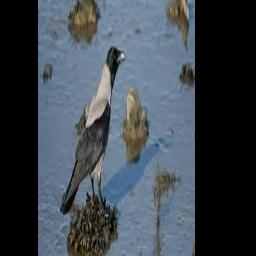Crow: (60, 45, 127, 216)
